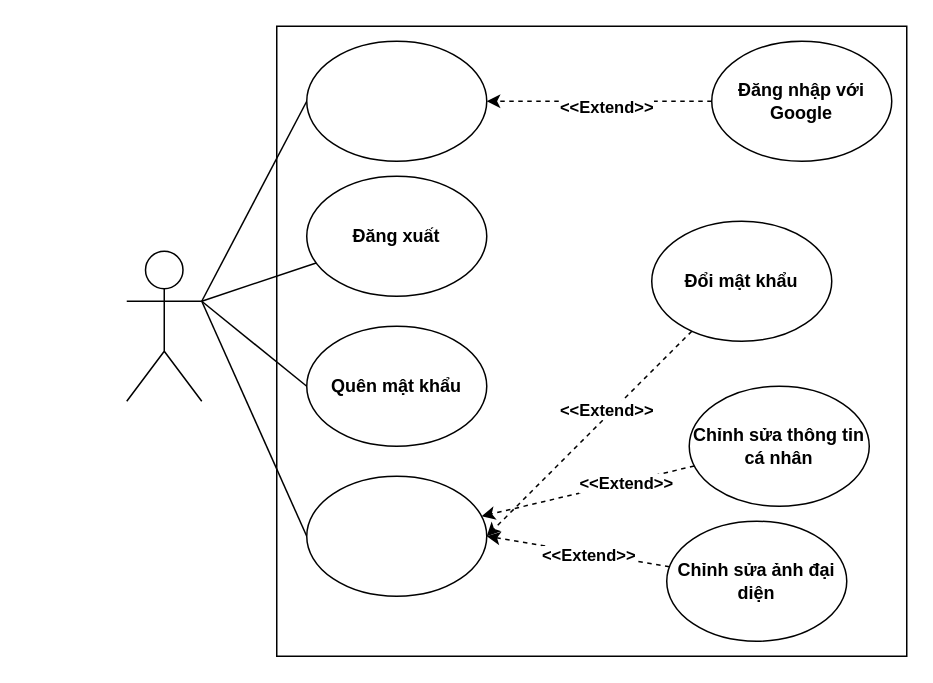
This 933x683 diagram has some shape labels left out. The centre of each missing label's shape, as x and y in pixels:
"Bệnh nhân, Bác sĩ, Y tá, Admin, Nhà thuốc, Trưởng khoa" goes at point (163, 325).
"Xem trang thông tin cá nhân" goes at point (396, 535).
"Đăng nhập" goes at point (396, 100).
